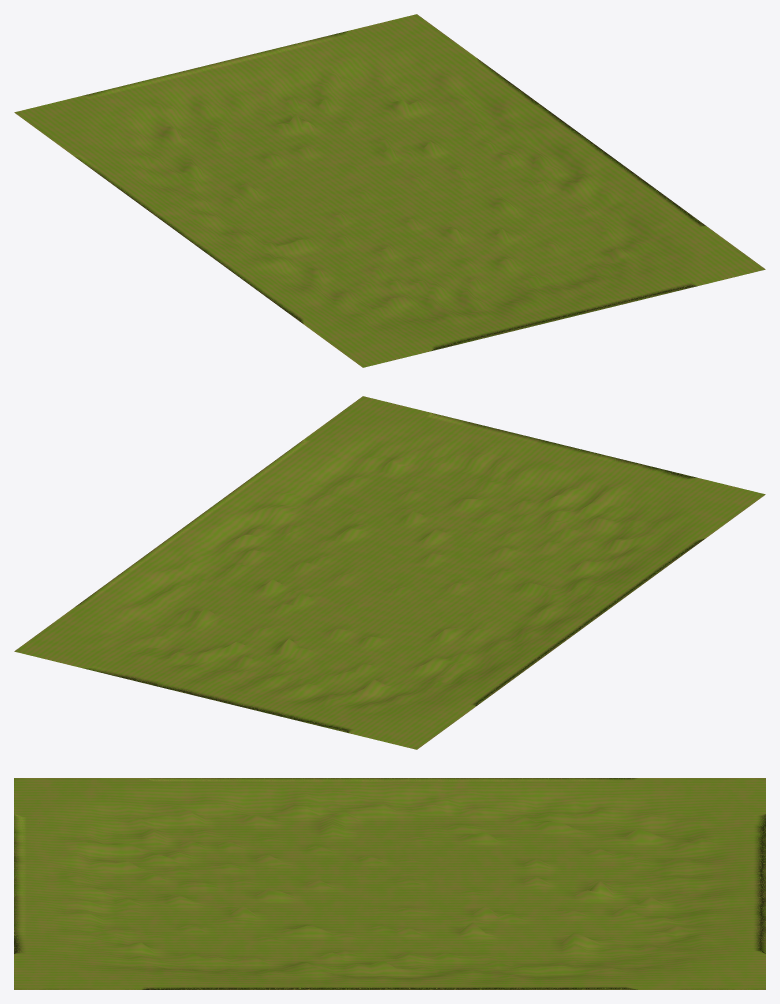
The model's file is map 2.fbx.
3 renders of one model, top to bottom at view 1: azimuth 30°, elevation 25°; view 2: azimuth 150°, elevation 25°; view 3: azimuth 270°, elevation 25°, orthographic. The views are drawn at different scales.
Visible parts, largest first — view 1: World Map 2 EXP; view 2: World Map 2 EXP; view 3: World Map 2 EXP.
Boxes of the visible parts, x1,y1,x2,y2 form: World Map 2 EXP: (14,14,765,367); World Map 2 EXP: (14,396,765,749); World Map 2 EXP: (14,778,765,989).
Bounding box in the file's own units: 6000 × 172 × 9000.
1 material, 1 textured.
